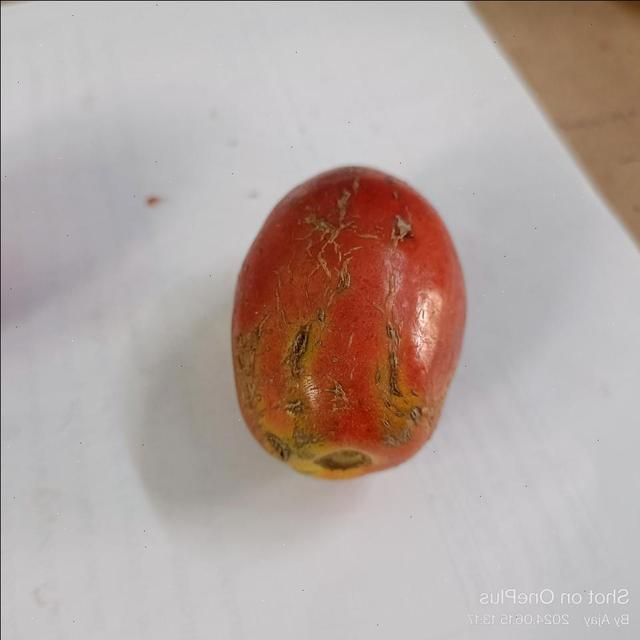Bacterial Spot Fruit: (8, 10, 276, 276)
